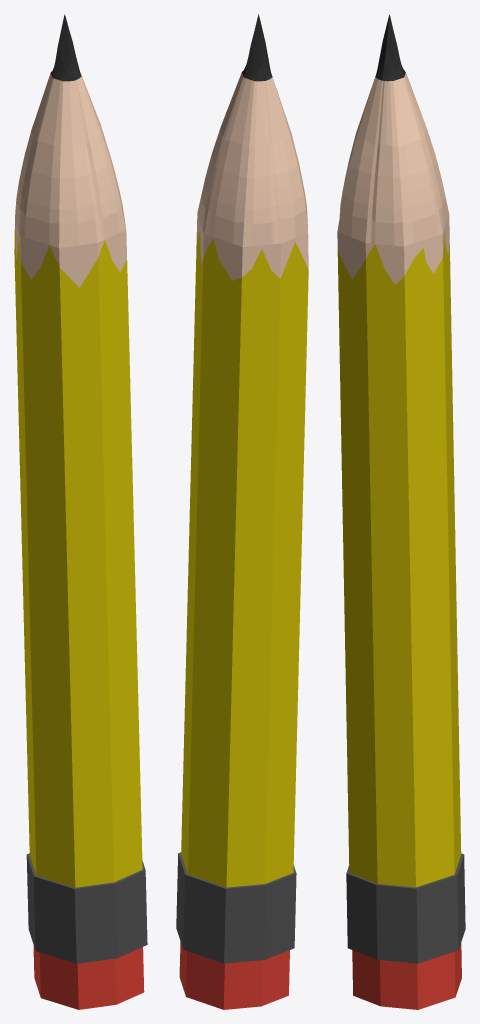
The model's file is pencil.glb.
3 renders of one model, left to right at view 1: azimuth 30°, elevation 25°; view 2: azimuth 210°, elevation 25°; view 3: azimuth 330°, elevation 25°, orthographic.
Visible parts, largest first — view 1: lapiza largo; view 2: lapiza largo; view 3: lapiza largo.
Part boxes in pixels (x1=…): lapiza largo: x1=14, y1=14, x2=147, y2=1009; lapiza largo: x1=176, y1=14, x2=308, y2=1009; lapiza largo: x1=337, y1=14, x2=465, y2=1009.
Bounding box in the file's own units: 0.6503 × 5.14 × 0.5694.
